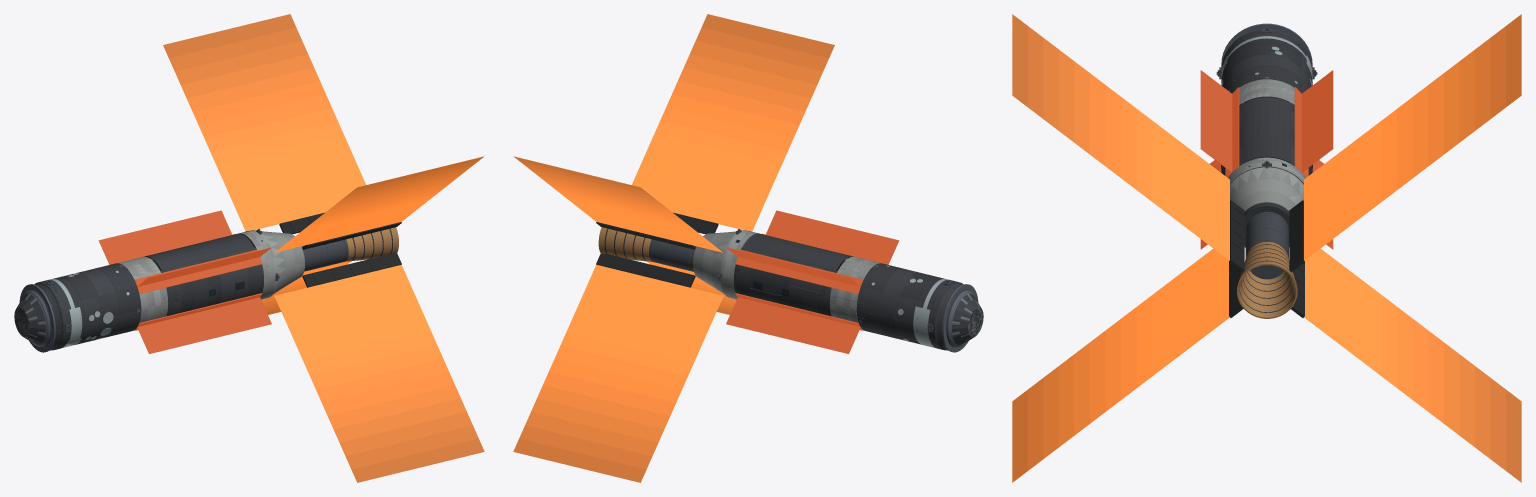
The model's file is wayfarer_exterior_detail_88ce19fc_torch_closed.glb.
3 views of the same model, side by side, from view 1: azimuth 30°, elevation 25°; view 2: azimuth 150°, elevation 25°; view 3: azimuth 270°, elevation 25° (orthographic). The views are drawn at different scales.
Visible parts, largest first — view 1: dry:armor, dry:skin_midship, dry:hotfin_220:pleat_13, dry:hotfin_40:pleat_04, dry:hotfin_220:pleat_09, dry:hotfin_40:pleat_02, dry:hotfin_220:pleat_04, dry:hotfin_220:pleat_07, dry:hotfin_220:pleat_11, dry:hotfin_40:pleat_03, dry:hotfin_40:pleat_05, dry:hotfin_40:pleat_08 (+47 smaller); view 2: dry:armor, dry:skin_midship, dry:hotfin_320:pleat_13, dry:hotfin_140:pleat_04, dry:hotfin_320:pleat_09, dry:hotfin_140:pleat_02, dry:hotfin_320:pleat_04, dry:hotfin_320:pleat_07, dry:hotfin_320:pleat_11, dry:hotfin_140:pleat_03, dry:hotfin_140:pleat_05, dry:hotfin_140:pleat_08 (+47 smaller); view 3: dry:armor, dry:nozzle, dry:thrust_cone, dry:reactor, dry:door_port, dry:door_starboard, dry:hotfin_220:pleat_03, dry:hotfin_320:pleat_03, dry:hotfin_40:pleat_05, dry:hotfin_40:pleat_07, dry:hotfin_140:pleat_05, dry:hotfin_140:pleat_07 (+63 smaller).
Part boxes in pixels (x1=…): dry:armor: x1=23, y1=263, x2=141, y2=350; dry:skin_midship: x1=160, y1=247, x2=263, y2=316; dry:hotfin_220:pleat_13: x1=351, y1=438, x2=484, y2=482; dry:hotfin_40:pleat_04: x1=216, y1=134, x2=349, y2=178; dry:hotfin_220:pleat_09: x1=327, y1=385, x2=460, y2=429; dry:hotfin_40:pleat_02: x1=228, y1=161, x2=361, y2=205; dry:hotfin_220:pleat_04: x1=298, y1=318, x2=431, y2=362; dry:hotfin_220:pleat_07: x1=316, y1=358, x2=448, y2=402; dry:hotfin_220:pleat_11: x1=339, y1=412, x2=472, y2=455; dry:hotfin_40:pleat_03: x1=222, y1=147, x2=355, y2=191; dry:hotfin_40:pleat_05: x1=210, y1=121, x2=343, y2=165; dry:hotfin_40:pleat_08: x1=193, y1=81, x2=325, y2=125; dry:armor: x1=856, y1=263, x2=974, y2=350; dry:skin_midship: x1=734, y1=247, x2=837, y2=316; dry:hotfin_320:pleat_13: x1=513, y1=438, x2=646, y2=482; dry:hotfin_140:pleat_04: x1=648, y1=134, x2=781, y2=178; dry:hotfin_320:pleat_09: x1=537, y1=385, x2=670, y2=429; dry:hotfin_140:pleat_02: x1=636, y1=161, x2=769, y2=205; dry:hotfin_320:pleat_04: x1=566, y1=318, x2=699, y2=362; dry:hotfin_320:pleat_07: x1=549, y1=358, x2=681, y2=402; dry:hotfin_320:pleat_11: x1=525, y1=412, x2=658, y2=455; dry:hotfin_140:pleat_03: x1=642, y1=147, x2=775, y2=191; dry:hotfin_140:pleat_05: x1=654, y1=121, x2=787, y2=165; dry:hotfin_140:pleat_08: x1=672, y1=81, x2=804, y2=125; dry:armor: x1=1221, y1=29, x2=1312, y2=93; dry:nozzle: x1=1237, y1=242, x2=1297, y2=318; dry:thrust_cone: x1=1230, y1=167, x2=1303, y2=247; dry:reactor: x1=1245, y1=211, x2=1288, y2=279; dry:door_port: x1=1242, y1=97, x2=1266, y2=163; dry:door_starboard: x1=1267, y1=97, x2=1291, y2=163; dry:hotfin_220:pleat_03: x1=1167, y1=271, x2=1183, y2=364; dry:hotfin_320:pleat_03: x1=1350, y1=271, x2=1366, y2=364; dry:hotfin_40:pleat_05: x1=1381, y1=109, x2=1397, y2=201; dry:hotfin_40:pleat_07: x1=1412, y1=85, x2=1428, y2=177; dry:hotfin_140:pleat_05: x1=1136, y1=109, x2=1152, y2=201; dry:hotfin_140:pleat_07: x1=1105, y1=85, x2=1121, y2=177.
Bounding box in the file's own units: 54.5 × 42.11 × 50.18.
